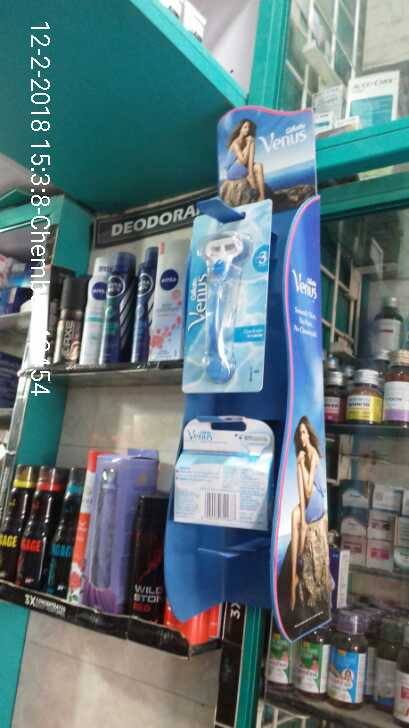venus: (195, 215, 278, 396)
